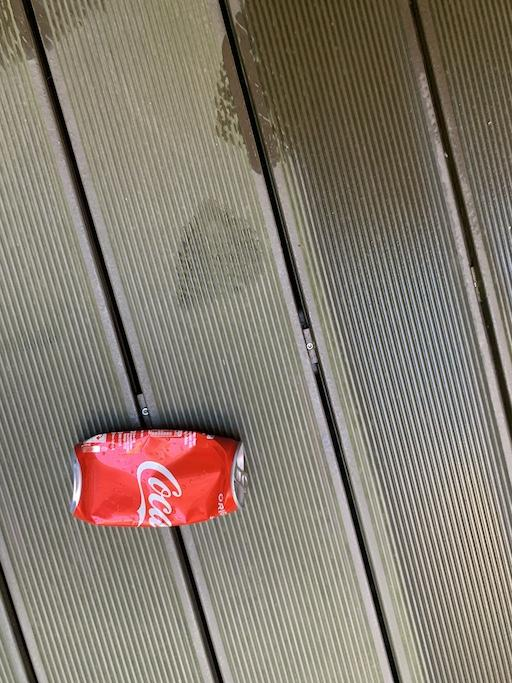Aluminum can: (61, 418, 264, 532)
